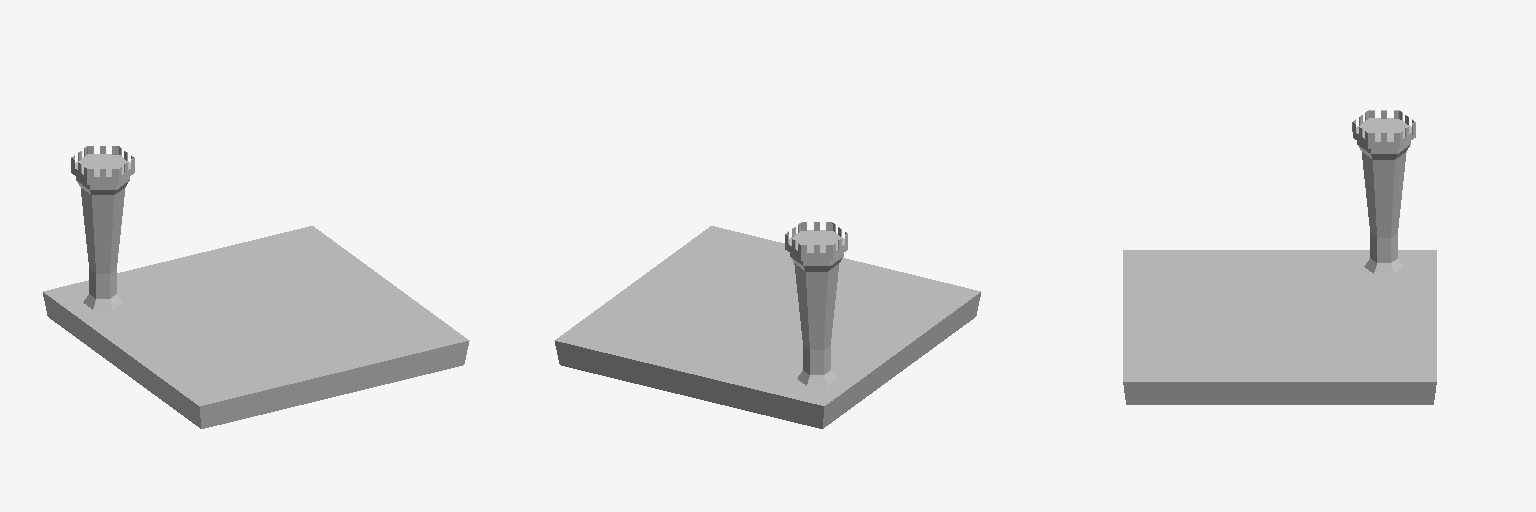
File: plattform_torch.obj
3 renders of one model, left to right at view 1: azimuth 30°, elevation 25°; view 2: azimuth 150°, elevation 25°; view 3: azimuth 270°, elevation 25°, orthographic.
Visible parts, largest first — view 1: Cube_Cube.001, sophisticated_Cylinder.001; view 2: Cube_Cube.001, sophisticated_Cylinder.001; view 3: Cube_Cube.001, sophisticated_Cylinder.001.
Boxes of the visible parts, <box> form: Cube_Cube.001: <box>43,226,469,428</box>; sophisticated_Cylinder.001: <box>71,146,134,309</box>; Cube_Cube.001: <box>554,226,980,428</box>; sophisticated_Cylinder.001: <box>785,222,847,385</box>; Cube_Cube.001: <box>1123,250,1436,404</box>; sophisticated_Cylinder.001: <box>1352,110,1415,273</box>.
Bounding box in the file's own units: 3.82 × 2.3 × 3.85.